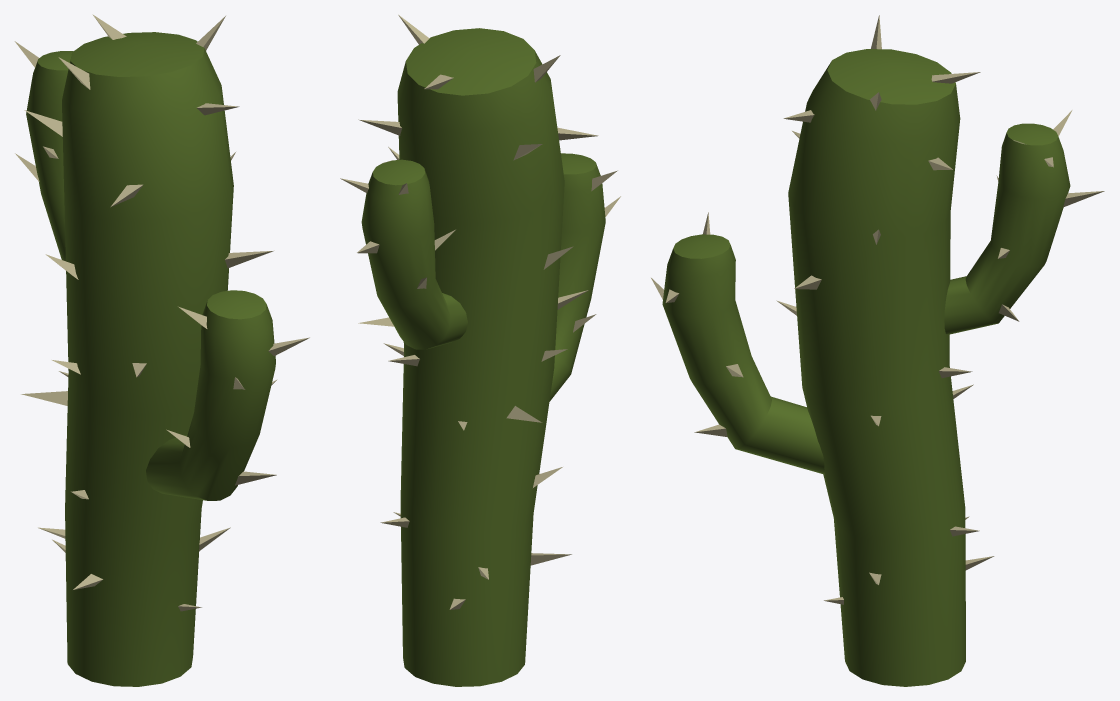
The model's file is Sm_CactusVer1L.fbx.
The picture shows the model from 3 angles, left to right: view 1: azimuth 30°, elevation 25°; view 2: azimuth 150°, elevation 25°; view 3: azimuth 270°, elevation 25°; orthographic projection. The views are drawn at different scales.
Visible parts, largest first — view 1: Sm_CactusVer1L; view 2: Sm_CactusVer1L; view 3: Sm_CactusVer1L.
Part boxes in pixels (bbox=[...]): Sm_CactusVer1L: bbox=[14, 14, 309, 686]; Sm_CactusVer1L: bbox=[340, 14, 620, 686]; Sm_CactusVer1L: bbox=[651, 15, 1104, 686].
Bounding box in the file's own units: 31.32 × 96.63 × 65.61.
